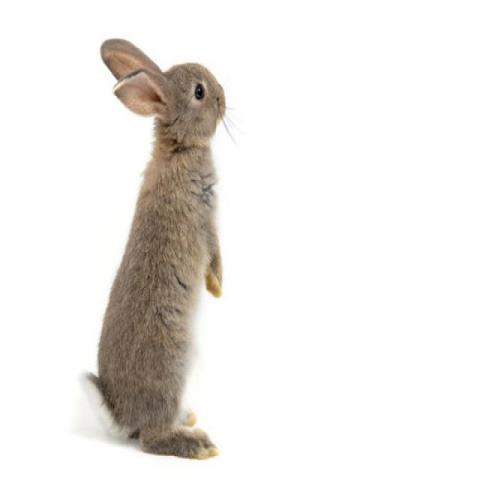small_animal: (81, 35, 235, 462)
